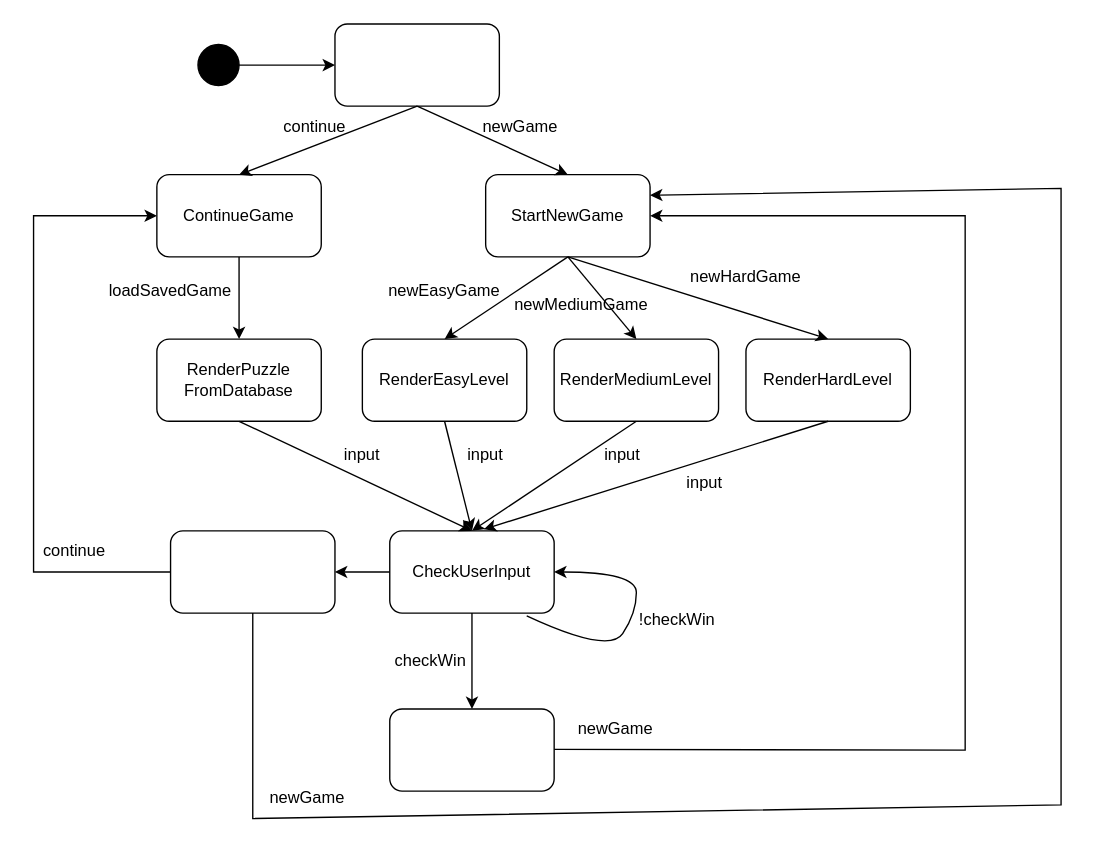
The diagram is 1096 pixels wide and 854 high, and some of its shapes have lost their labels. Each missing label, with the box of its shape:
Pause game//Abort: (169, 530, 335, 613)
RenderFirstPage: (334, 23, 499, 106)
Victory: (388, 708, 554, 791)
